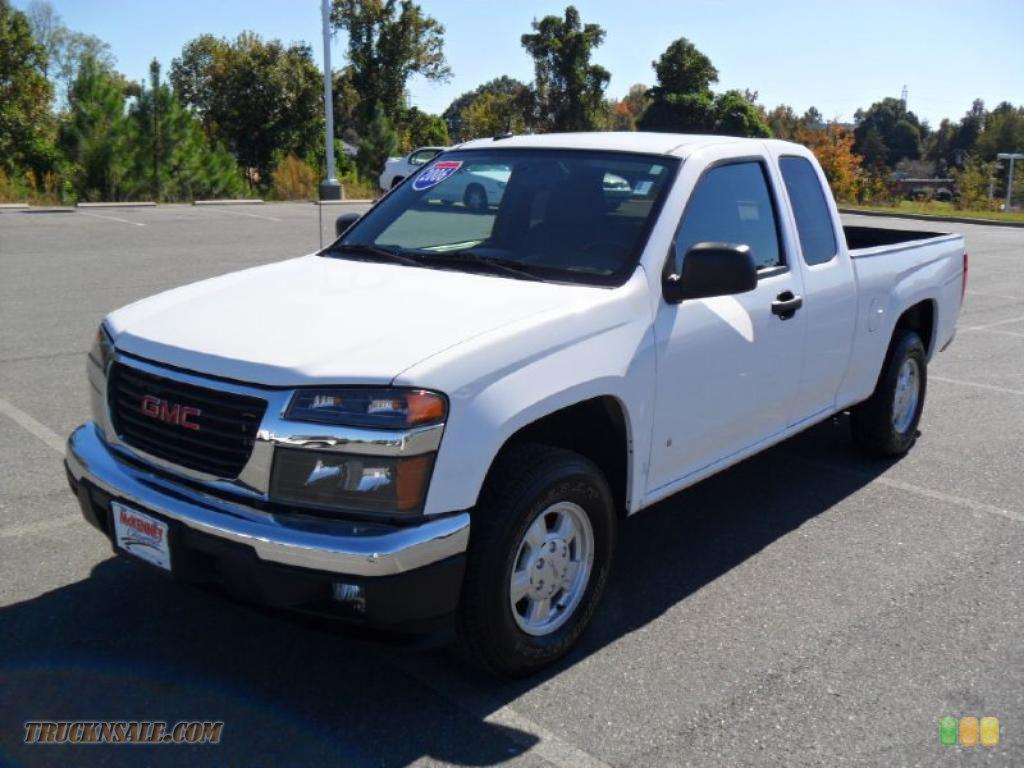Car: (49, 71, 1024, 709)
